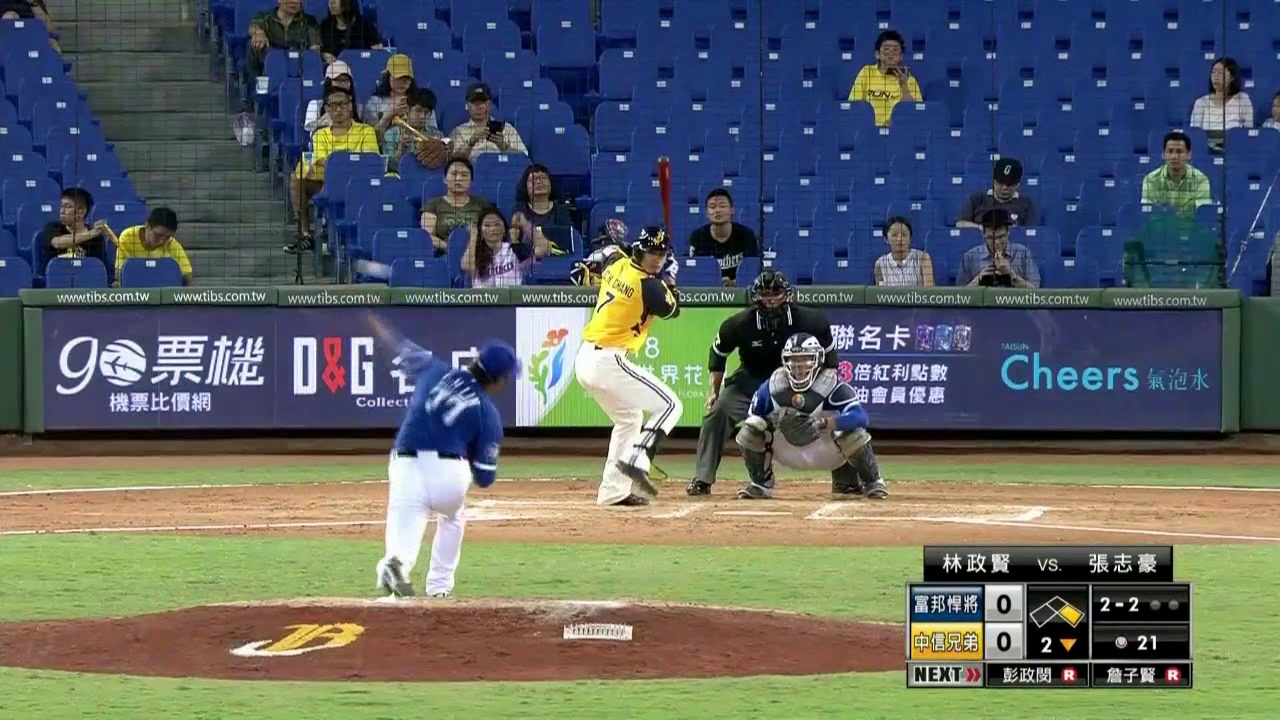ball: (363, 260, 382, 279)
base: (1029, 594, 1086, 629)
bat: (653, 153, 676, 248)
out: (1146, 590, 1184, 619)
score1: (987, 586, 1023, 619)
score2: (987, 626, 1019, 657)
session: (1029, 631, 1086, 658)
strikeball: (1093, 591, 1144, 619)
total: (1093, 630, 1183, 656)
